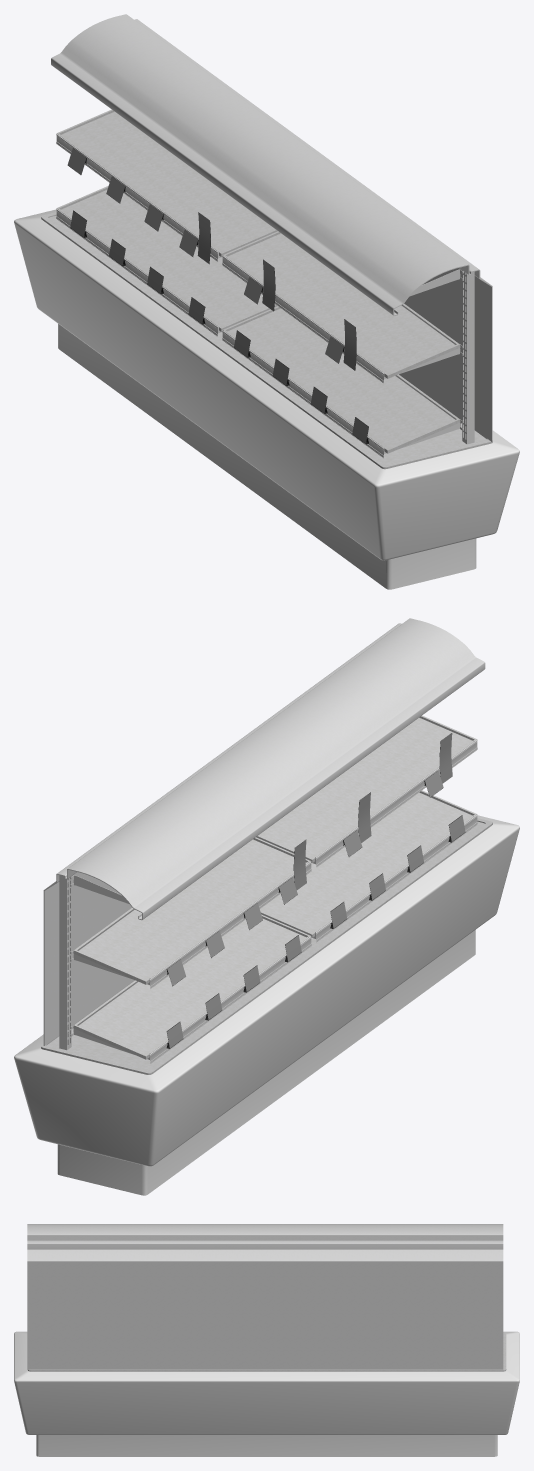
The model's file is SM_肉类冷藏柜001.fbx.
3 renders of one model, top to bottom at view 1: azimuth 30°, elevation 25°; view 2: azimuth 150°, elevation 25°; view 3: azimuth 270°, elevation 25°, orthographic. The views are drawn at different scales.
Visible parts, largest first — view 1: SM_肉类冷藏柜001; view 2: SM_肉类冷藏柜001; view 3: SM_肉类冷藏柜001.
Boxes of the visible parts, left/top/right/bottom form: SM_肉类冷藏柜001: left=14, top=14, right=519, bottom=589; SM_肉类冷藏柜001: left=14, top=618, right=519, bottom=1195; SM_肉类冷藏柜001: left=14, top=1224, right=519, bottom=1456.
Size of the model in its own units: 74.08 by 153 by 322.
